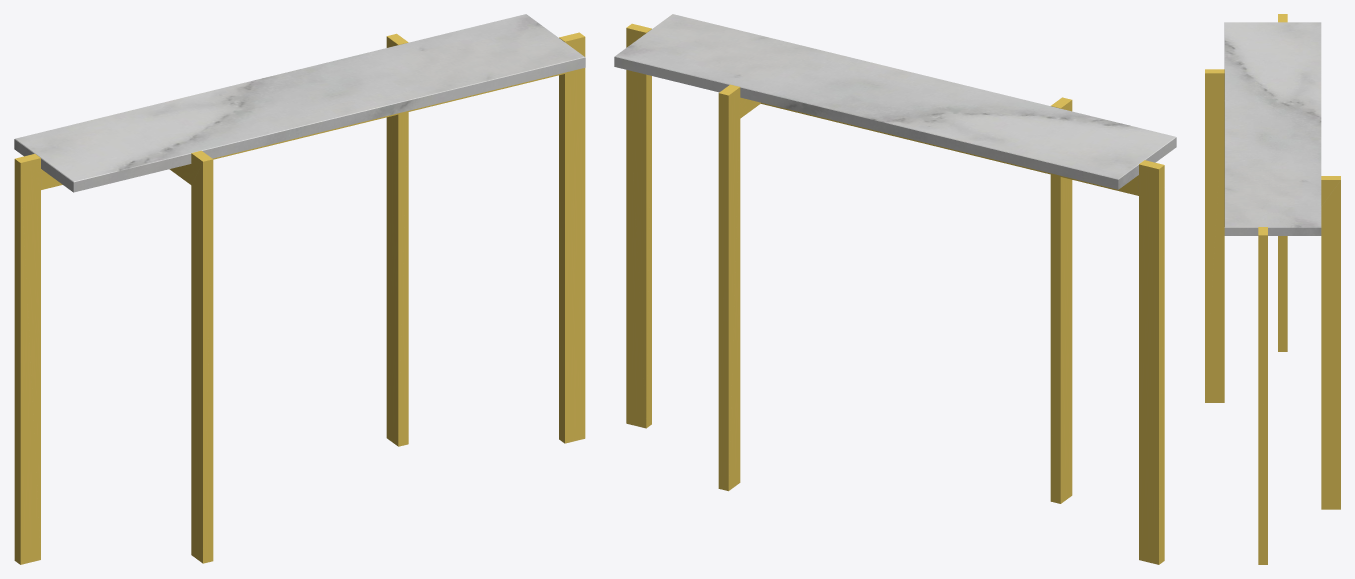
Rendered from Ibizad7910a.gltf.
3 renders of one model, left to right at view 1: azimuth 30°, elevation 25°; view 2: azimuth 150°, elevation 25°; view 3: azimuth 270°, elevation 25°, orthographic. The views are drawn at different scales.
Bounding box in the file's own units: 1.08 × 0.75 × 0.28.
Materials: 2 (2 with a texture image).
